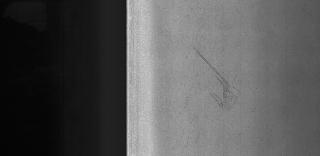water spot: (188, 42, 250, 116)
